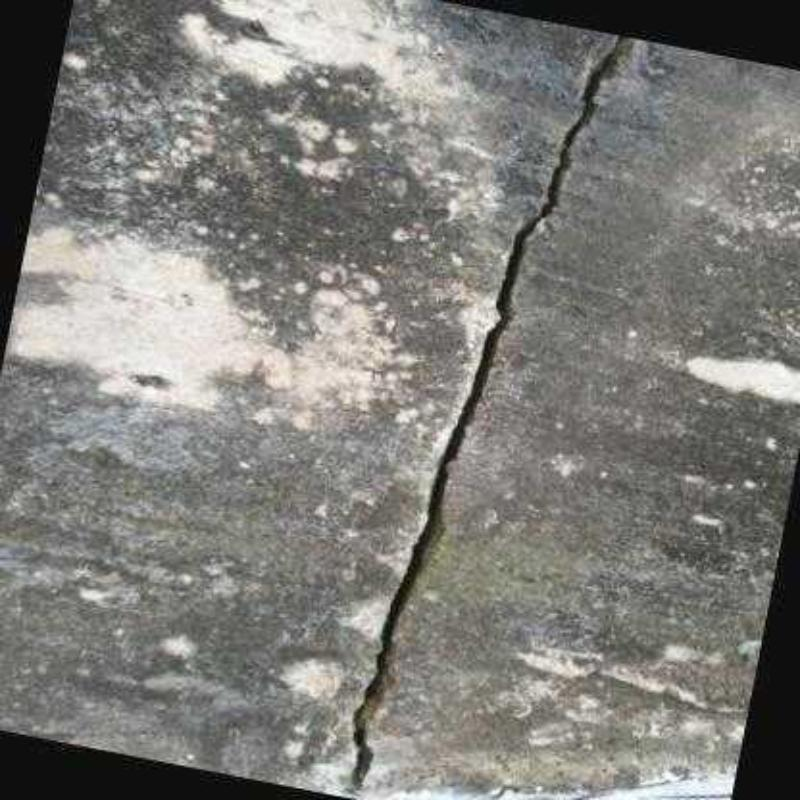crack: (343, 37, 633, 792)
